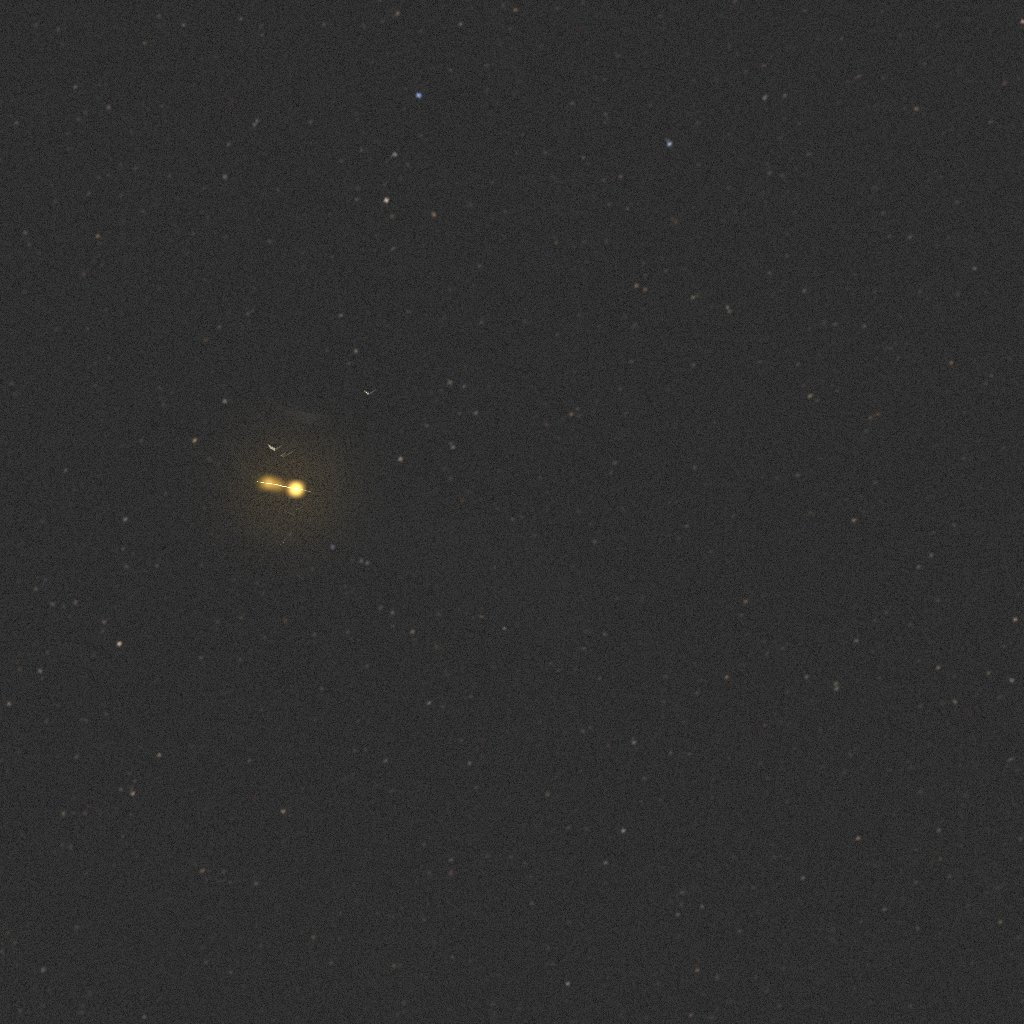earth_observation_sat_1: (226, 361, 596, 661)
